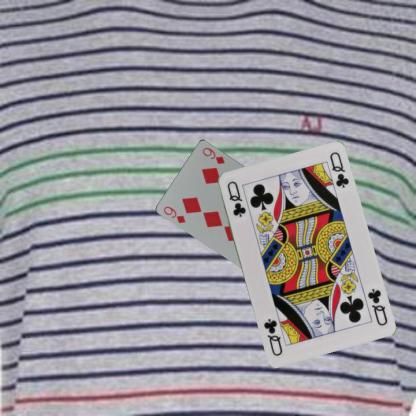9d: (161, 203, 187, 224)
Qc: (365, 285, 388, 327), (224, 178, 247, 218)
